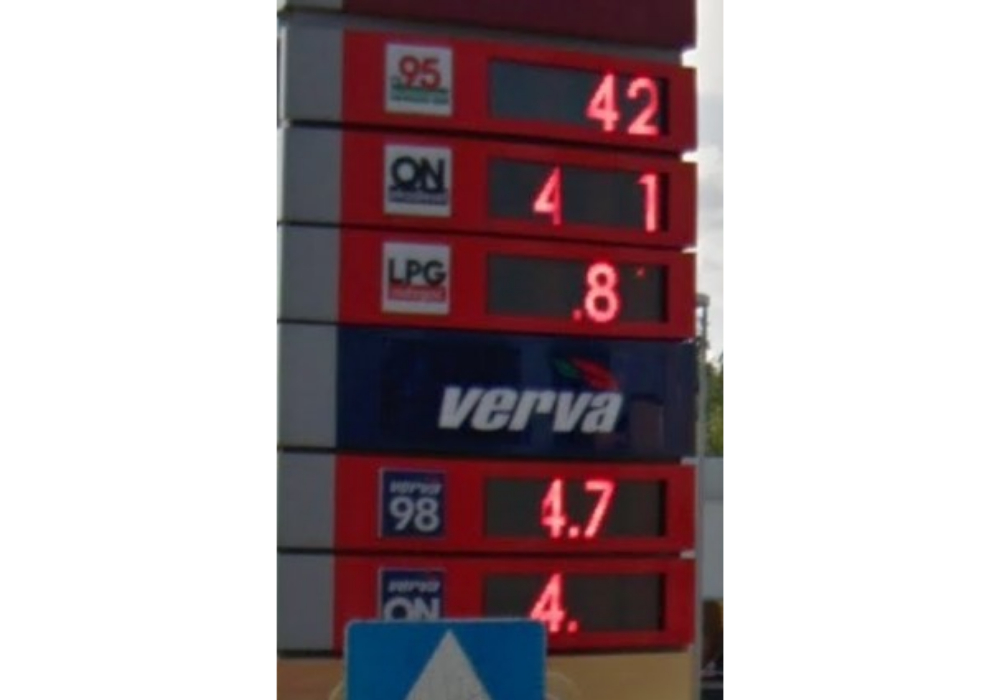LPG: (380, 240, 452, 314)
ON: (380, 141, 452, 221), (376, 565, 444, 629)
PB95: (383, 38, 456, 118)
PB98: (377, 462, 450, 541)
